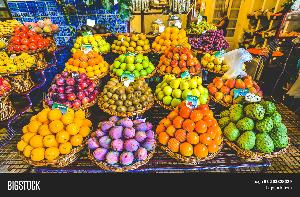apple: (205, 70, 266, 106), (155, 76, 205, 110), (110, 53, 158, 79), (158, 47, 202, 75), (72, 33, 108, 51)
avocado: (73, 20, 109, 36)
grape: (188, 30, 230, 53), (188, 22, 218, 35)
kiwi: (100, 77, 154, 115)
mango: (88, 117, 154, 167)
orange: (13, 109, 93, 160), (152, 24, 188, 54)
persimmon: (156, 102, 224, 156)
plum: (39, 71, 100, 107)
pomegranate: (7, 26, 50, 53)
